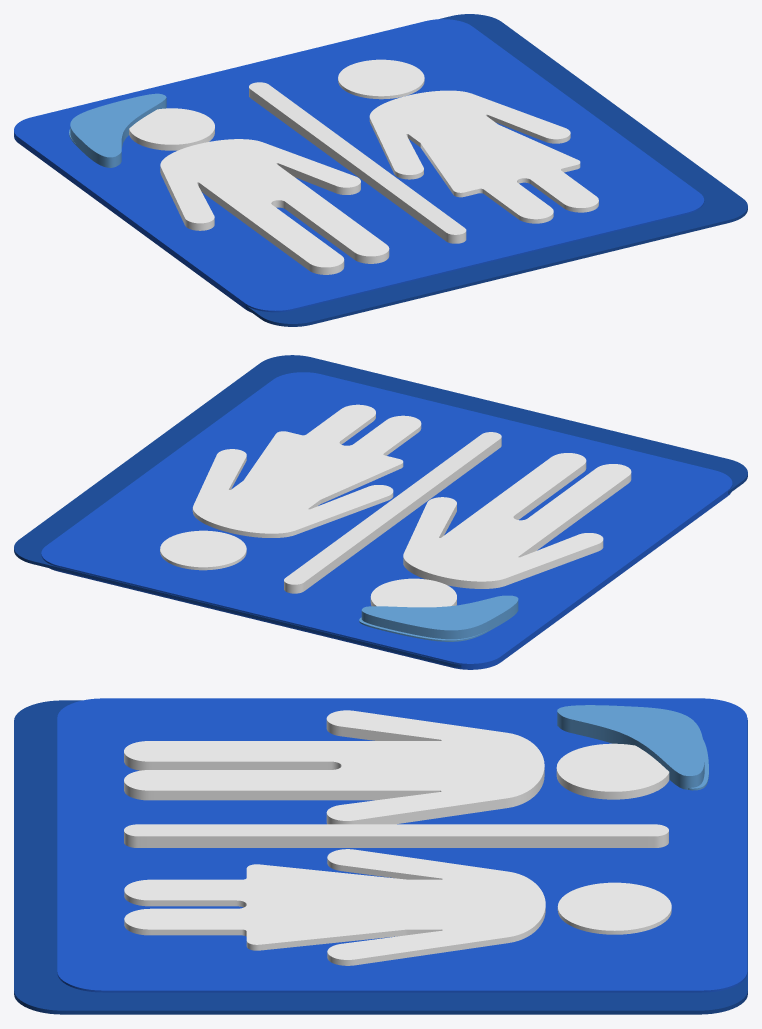
File: emoji_u1f6bb.glb
3 views of the same model, one above another, from view 1: azimuth 30°, elevation 25°; view 2: azimuth 150°, elevation 25°; view 3: azimuth 270°, elevation 25° (orthographic). The views are drawn at different scales.
Parts seen in each view (by area): view 1: emoji_u1f6bb; view 2: emoji_u1f6bb; view 3: emoji_u1f6bb.
Boxes of the visible parts, left/top/right/bottom form: emoji_u1f6bb: left=14, top=14, right=747, bottom=326; emoji_u1f6bb: left=14, top=355, right=747, bottom=669; emoji_u1f6bb: left=14, top=698, right=747, bottom=1014.
Size of the model in its own units: 0.0339 by 0.0018 by 0.0339.
